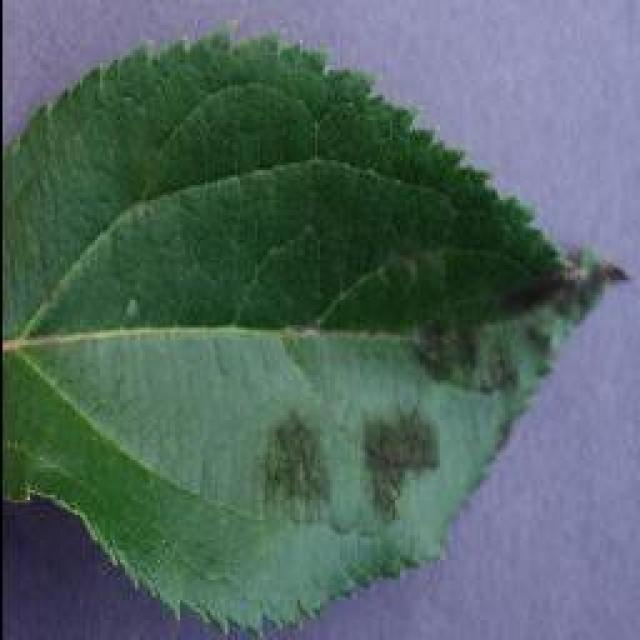apple scab disease: (0, 22, 628, 638)
